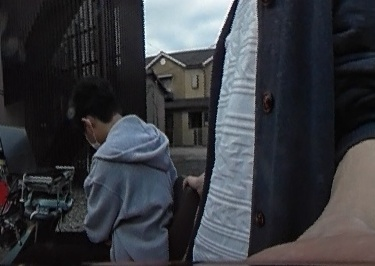person: (49, 79, 180, 266)
